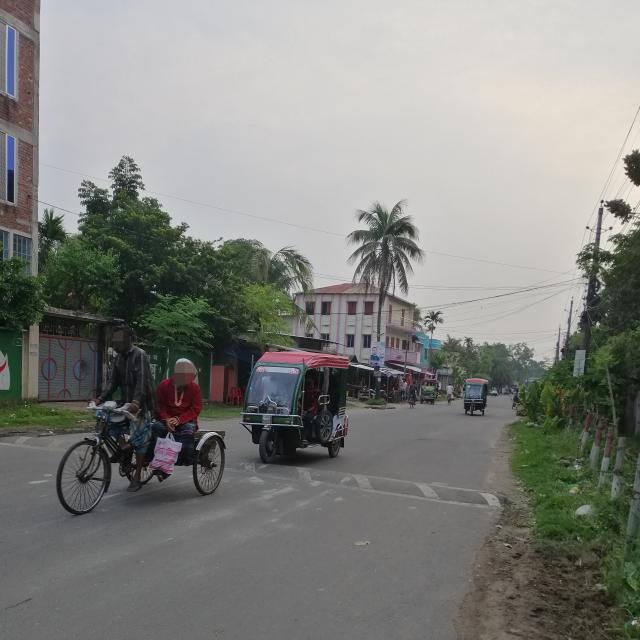Van: (47, 394, 234, 525)
